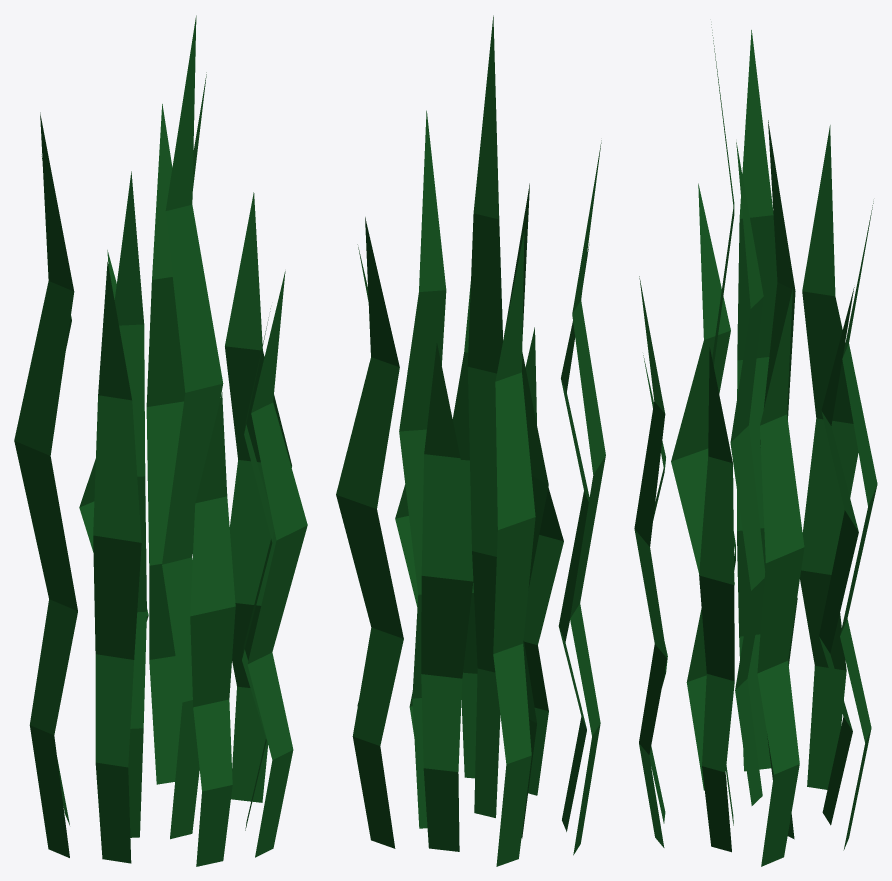
The model's file is Seaweed 1.fbx.
3 views of the same model, side by side, from view 1: azimuth 30°, elevation 25°; view 2: azimuth 150°, elevation 25°; view 3: azimuth 270°, elevation 25° (orthographic). The views are drawn at different scales.
Visible parts, largest first — view 1: Plane005; view 2: Plane005; view 3: Plane005.
Part boxes in pixels (left/top/right/bottom): Plane005: left=14, top=15, right=307, bottom=866; Plane005: left=336, top=15, right=605, bottom=866; Plane005: left=634, top=24, right=877, bottom=866.
Size of the model in its own units: 9.36 by 27.74 by 7.56.
1 material, 1 textured.
